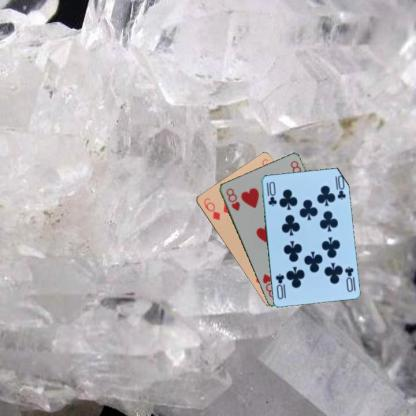10c: (263, 178, 278, 208), (342, 264, 355, 293)
6d: (201, 195, 221, 222)
8h: (223, 186, 241, 212)
